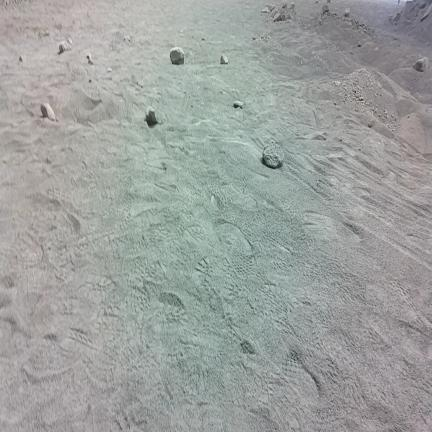Rock: (263, 141, 284, 168), (40, 103, 56, 121), (146, 106, 161, 125), (170, 47, 184, 64), (413, 58, 428, 72), (421, 4, 431, 21), (59, 41, 71, 53), (311, 133, 326, 140), (393, 12, 401, 22), (274, 12, 282, 21), (87, 53, 93, 64), (234, 101, 243, 108), (221, 55, 228, 64), (266, 4, 275, 11), (284, 13, 292, 20), (323, 5, 329, 14), (261, 7, 270, 13), (124, 35, 131, 42), (345, 8, 349, 17), (68, 37, 72, 46), (106, 67, 112, 73), (20, 56, 25, 62), (358, 42, 362, 48), (291, 2, 294, 10), (202, 37, 205, 41), (327, 0, 330, 3)
